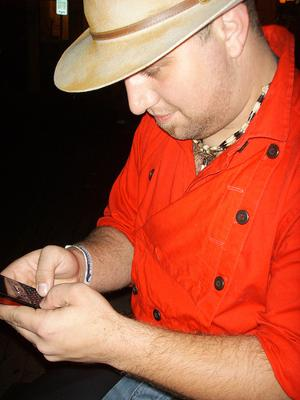person: (2, 2, 300, 400)
